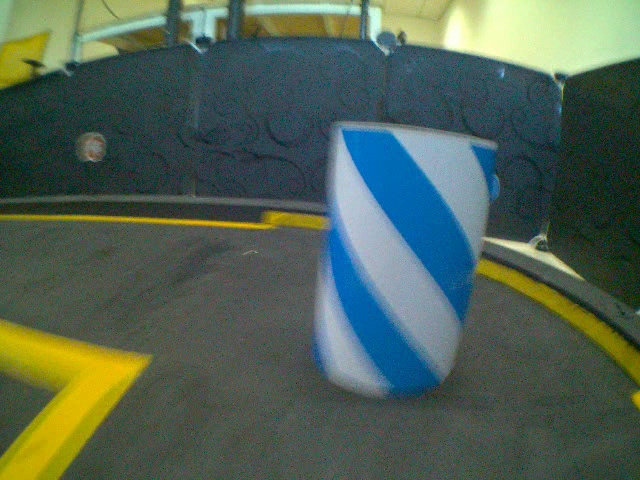bucket: (300, 123, 502, 403)
